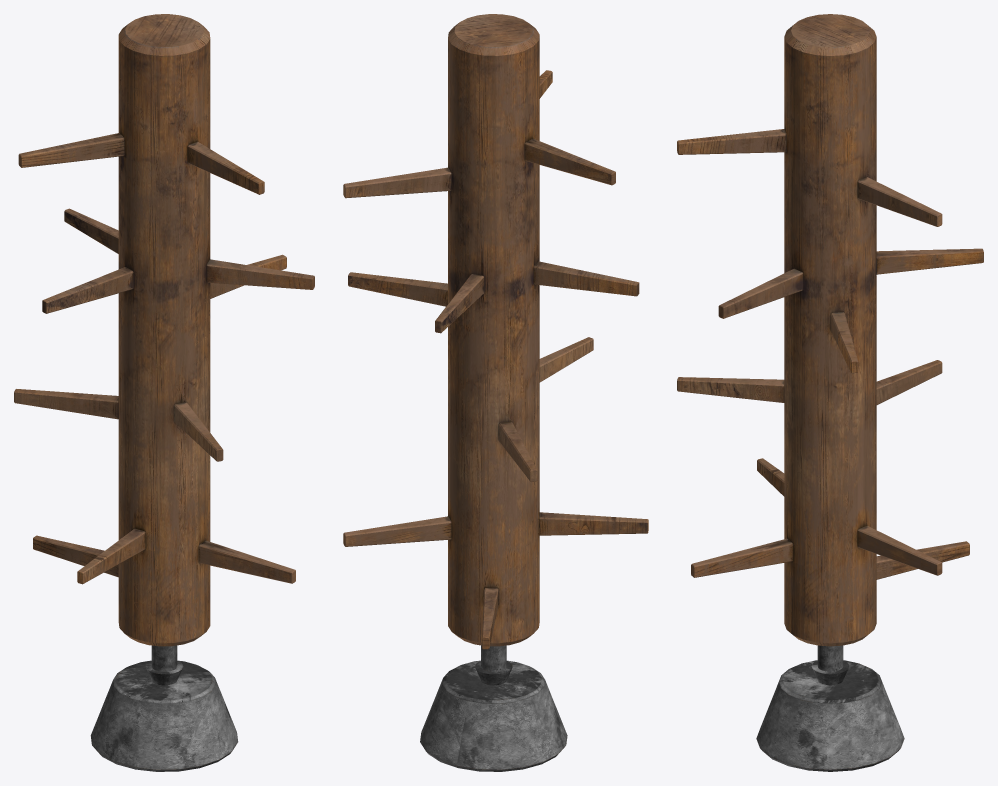
The model's file is training_dummy_9465a0.glb.
3 renders of one model, left to right at view 1: azimuth 30°, elevation 25°; view 2: azimuth 150°, elevation 25°; view 3: azimuth 270°, elevation 25°, orthographic.
Visible parts, largest first — view 1: pCylinder2; view 2: pCylinder2; view 3: pCylinder2.
Boxes of the visible parts, <box> form: pCylinder2: <box>14,14,314,771</box>; pCylinder2: <box>343,14,648,771</box>; pCylinder2: <box>677,14,983,771</box>.
Bounding box in the file's own units: 206 × 526 × 206.
Materials: 1 (1 with a texture image).
